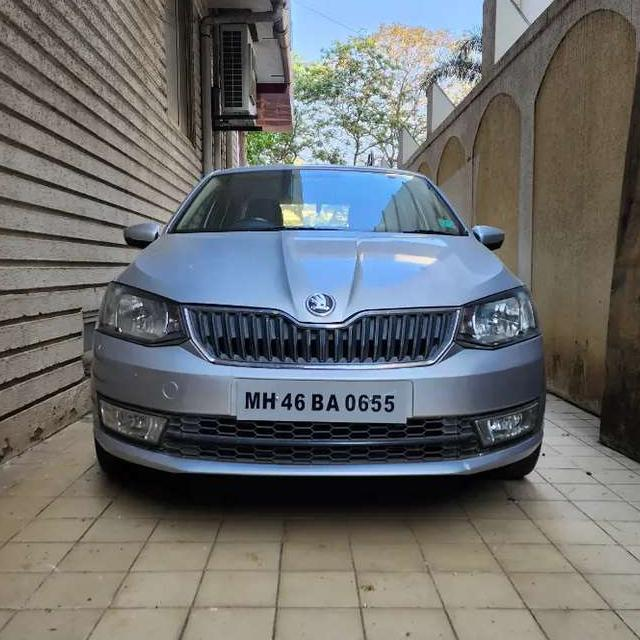Indian_Number_Plate: (238, 379, 407, 424)
